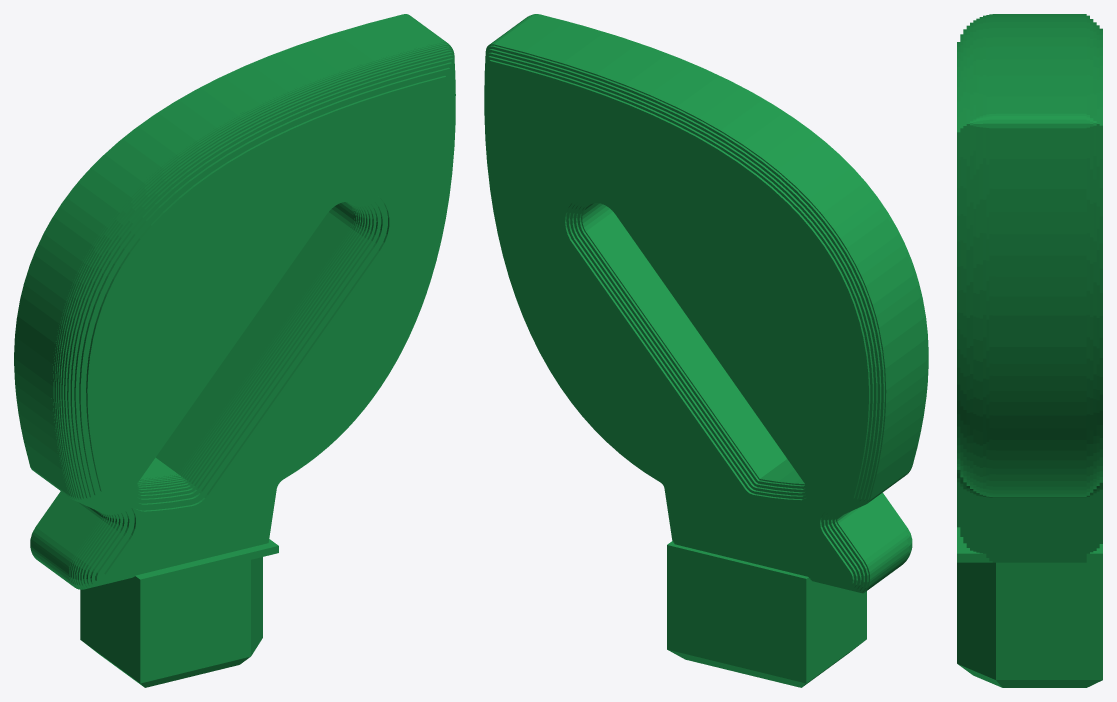
The model's file is glyph-plant@plant.glb.
3 views of the same model, side by side, from view 1: azimuth 30°, elevation 25°; view 2: azimuth 150°, elevation 25°; view 3: azimuth 270°, elevation 25° (orthographic). The views are drawn at different scales.
Parts seen in each view (by area): view 1: geometry_0; view 2: geometry_0; view 3: geometry_0.
Part boxes in pixels (bbox=[...]): geometry_0: bbox=[14, 14, 455, 687]; geometry_0: bbox=[484, 14, 928, 687]; geometry_0: bbox=[957, 14, 1102, 687].
Size of the model in its own units: 17.28 by 23.37 by 4.5.
